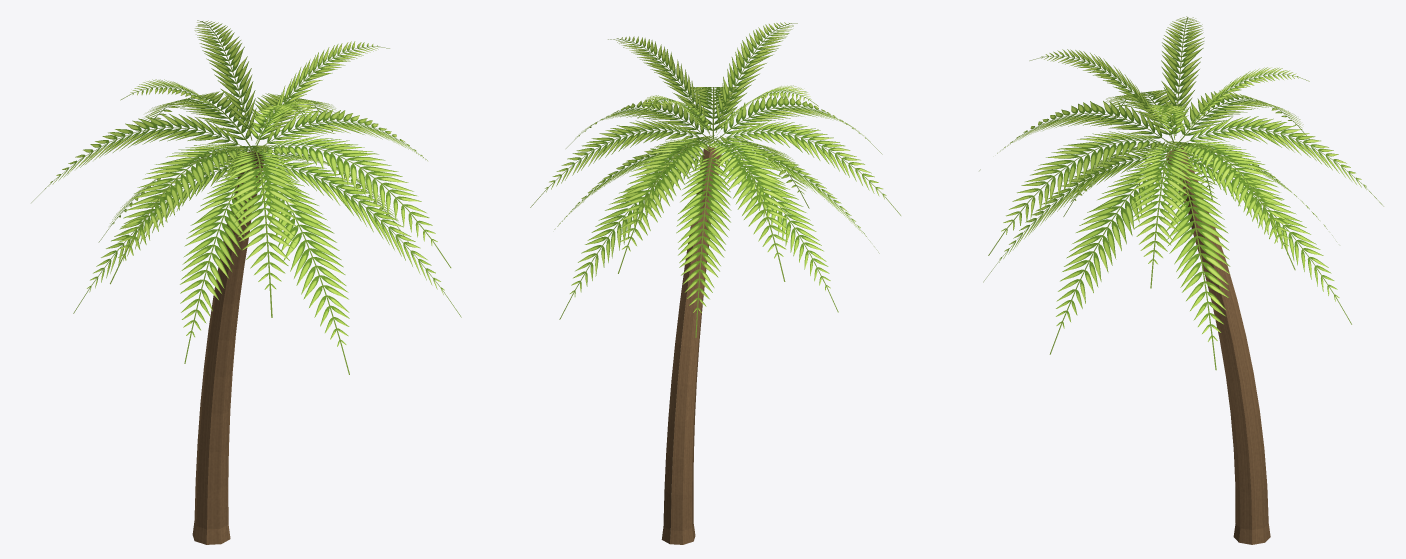
File: palm2_a_before_round.glb
3 renders of one model, left to right at view 1: azimuth 30°, elevation 25°; view 2: azimuth 150°, elevation 25°; view 3: azimuth 270°, elevation 25°, orthographic. The views are drawn at different scales.
Parts seen in each view (by area): view 1: palm2_a; view 2: palm2_a; view 3: palm2_a.
Boxes of the visible parts, x1,y1,x2,y2 form: palm2_a: [31, 20, 461, 544]; palm2_a: [530, 22, 900, 544]; palm2_a: [979, 16, 1383, 544].
Size of the model in its own units: 3.33 by 4.1 by 3.47.
Materials: 2 (2 with a texture image).
